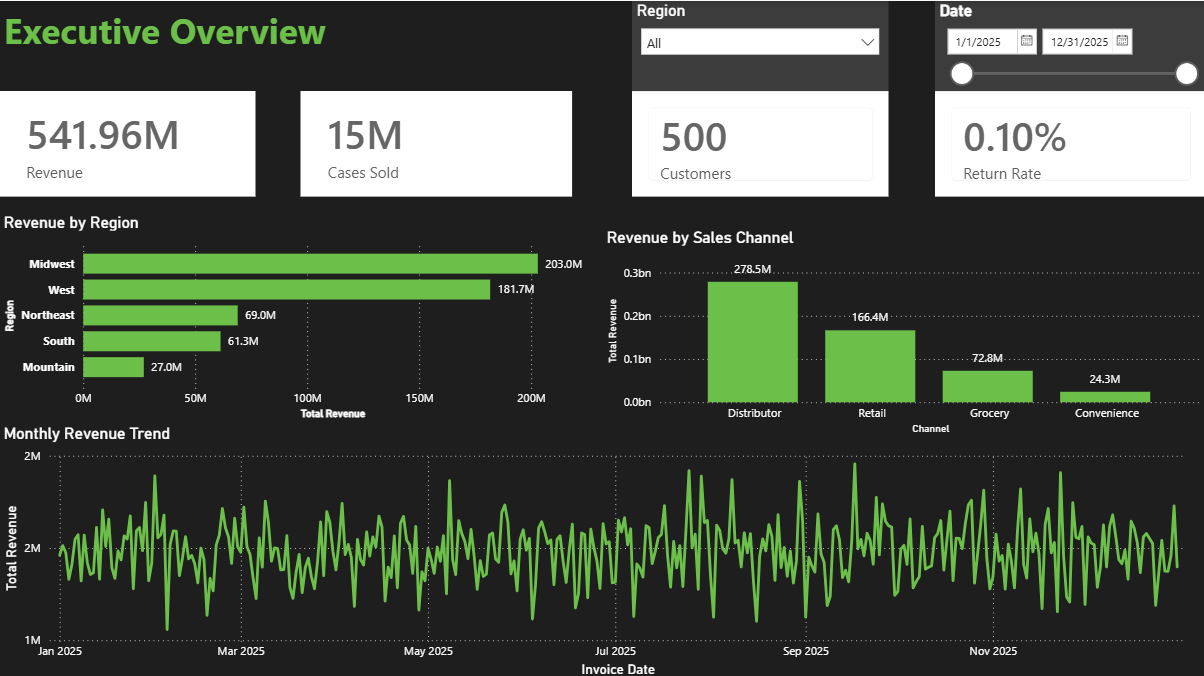

The page's visual inventory and layout, read from the dashboard file:
{"tool":"powerbi","page":{"name":"Executive Overview","canvas":[1280,720],"ordinal":0},"visuals":[{"type":"cardVisual","title":"title","fields":{"Data":["KPI Measures.Total Revenue"]},"box":[0,96,272,112],"z":0},{"type":"cardVisual","title":"title","fields":{"Data":["KPI Measures.Total Cases Sold"]},"box":[320,96,288,112],"z":1000},{"type":"cardVisual","title":"title","fields":{"Data":["KPI Measures.Total Customers"]},"box":[672,96,272,112],"z":2000},{"type":"cardVisual","title":"title","fields":{"Data":["KPI Measures.Return Rate %"]},"box":[992,96,288,112],"z":3000},{"type":"textbox","box":[0,0,368,96],"z":4000},{"type":"clusteredBarChart","title":"Revenue by Region","fields":{"Category":["dim_customers.region"],"Y":["KPI Measures.Total Revenue"]},"box":[0,224,640,224],"z":5000},{"type":"clusteredColumnChart","title":"Revenue by Sales Channel","fields":{"Category":["dim_customers.channel"],"Y":["KPI Measures.Total Revenue"]},"box":[640,240,640,224],"z":6000},{"type":"lineChart","title":"Monthly Revenue Trend","fields":{"Y":["KPI Measures.Total Revenue"],"Category":["fact_sales.invoice_date"]},"box":[0,448,1280,272],"z":7000},{"type":"slicer","title":"Region","fields":{"Values":["dim_customers.region"]},"box":[672,0,272,96],"z":7001},{"type":"slicer","title":"Date","fields":{"Values":["fact_sales.invoice_date"]},"box":[992,0,288,96],"z":7002}]}

Visuals, with their boxes in screenshot pixels (x1, y1, x2, y2), scaled from the page's 1280x720 canvas onto the 1204x676 screenshot:
"title" cardVisual: l=0, t=90, r=256, b=195
"title" cardVisual: l=301, t=90, r=572, b=195
"title" cardVisual: l=632, t=90, r=888, b=195
"title" cardVisual: l=933, t=90, r=1203, b=195
textbox: l=0, t=0, r=346, b=90
"Revenue by Region" clusteredBarChart: l=0, t=210, r=602, b=421
"Revenue by Sales Channel" clusteredColumnChart: l=602, t=225, r=1203, b=436
"Monthly Revenue Trend" lineChart: l=0, t=421, r=1203, b=675
"Region" slicer: l=632, t=0, r=888, b=90
"Date" slicer: l=933, t=0, r=1203, b=90
